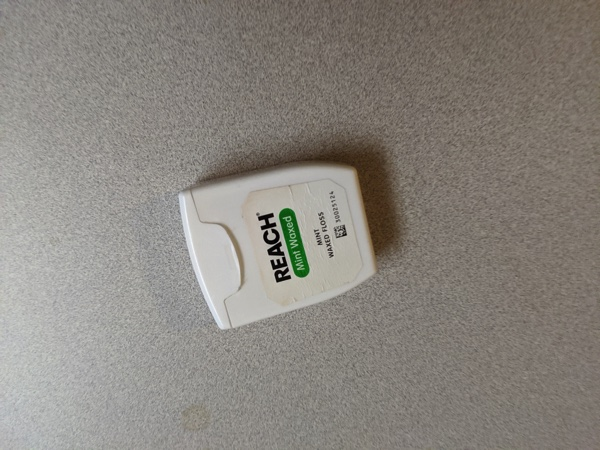plastic: (163, 153, 388, 340)
